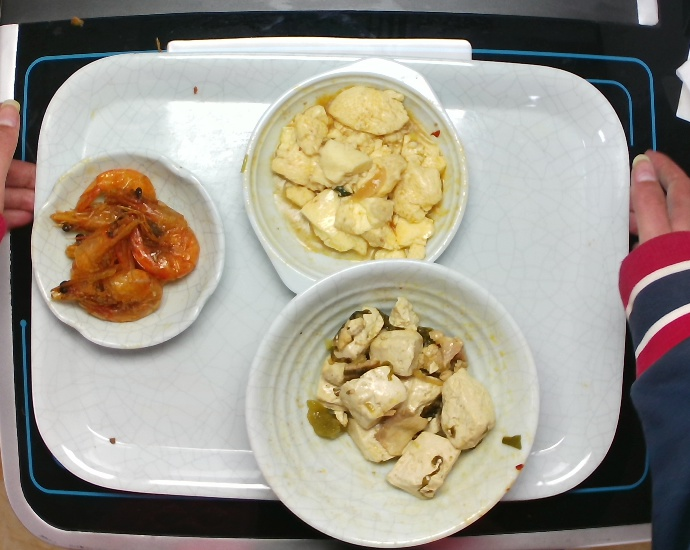JYsf-Ao_Yuan_Wan: (30, 147, 235, 355)
JYsf-Shuang_Er_Pan: (238, 55, 470, 302)
JYsf-Xiao_Tang_Wan: (238, 256, 543, 546)
